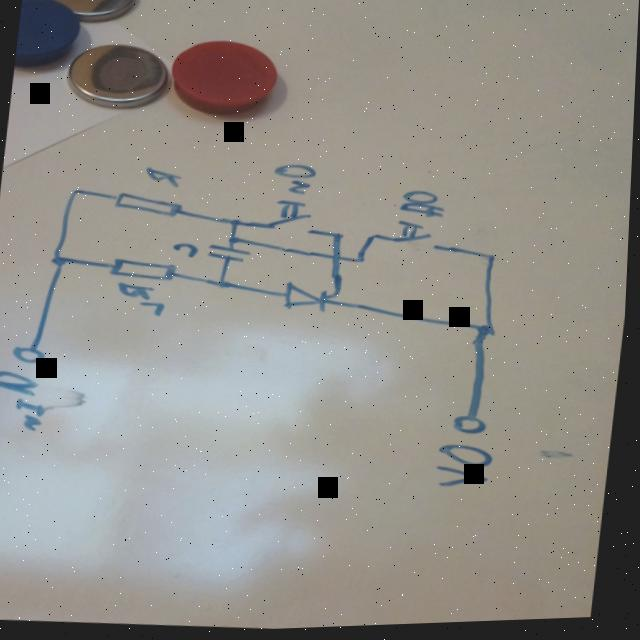capacitor: (207, 243, 253, 264)
crossover: (329, 252, 345, 264)
junction: (476, 324, 499, 341), (50, 254, 70, 266), (331, 231, 347, 243), (217, 278, 233, 290), (354, 256, 369, 267), (229, 217, 243, 228), (484, 254, 499, 264), (228, 235, 243, 244), (70, 186, 82, 196), (368, 234, 381, 241)
resistor: (112, 189, 185, 220), (110, 256, 178, 283)
switch: (268, 199, 318, 237), (393, 220, 444, 254)
terminal: (12, 342, 50, 365), (454, 415, 492, 438)
text: (0, 367, 52, 432), (437, 443, 498, 493), (116, 279, 170, 318), (399, 189, 448, 222), (272, 163, 317, 197), (143, 164, 183, 190), (172, 240, 201, 259)
thyristor: (284, 279, 343, 315)
